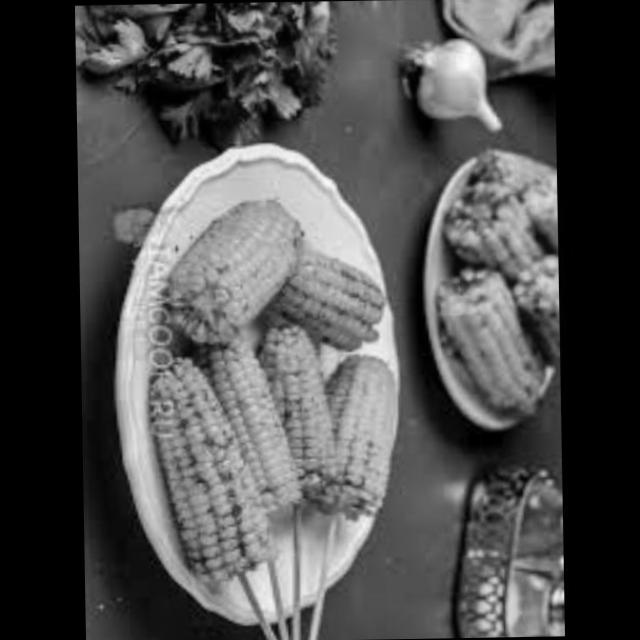cereal: (150, 332, 287, 596), (158, 195, 312, 336), (204, 306, 306, 517), (441, 253, 544, 422), (318, 343, 409, 522), (264, 240, 404, 352), (262, 308, 342, 504), (440, 182, 542, 294), (496, 247, 562, 388), (485, 134, 559, 258)
